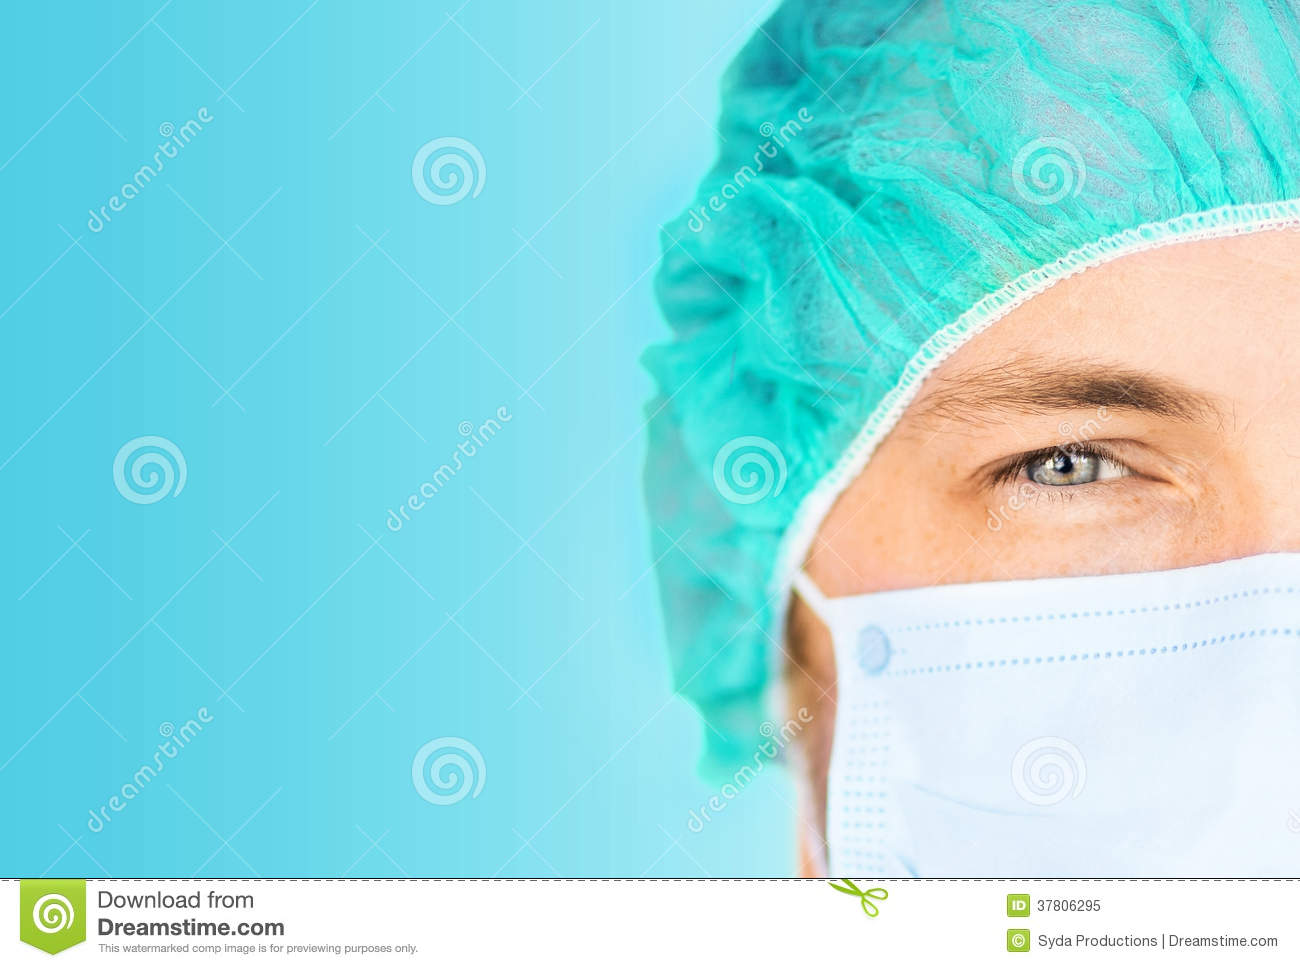mask: (799, 577, 1300, 881)
